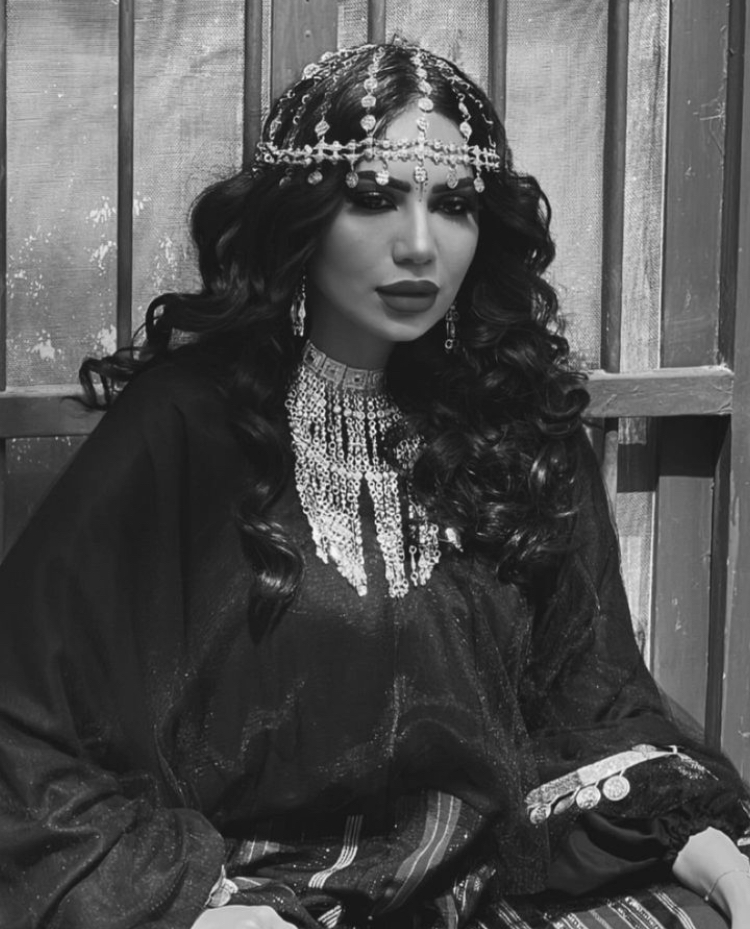Saudi_Founding_Day: (5, 32, 750, 929)
